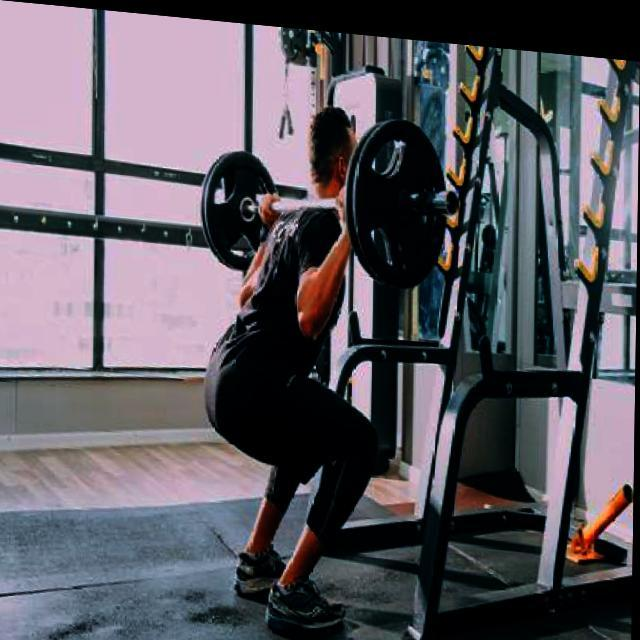barbell: (353, 105, 463, 287)
